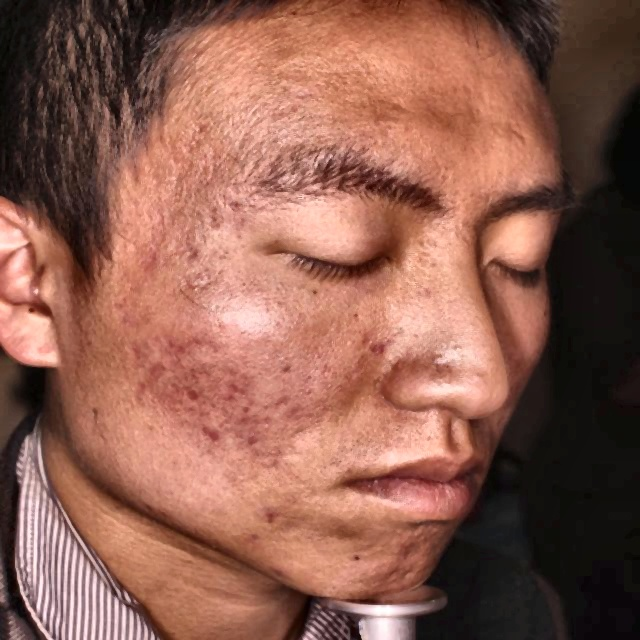pustule: (133, 242, 174, 285), (256, 560, 303, 587), (232, 418, 264, 454), (213, 375, 256, 400), (182, 377, 205, 415), (259, 504, 282, 532), (231, 396, 257, 419), (199, 417, 221, 442), (238, 523, 262, 542)
